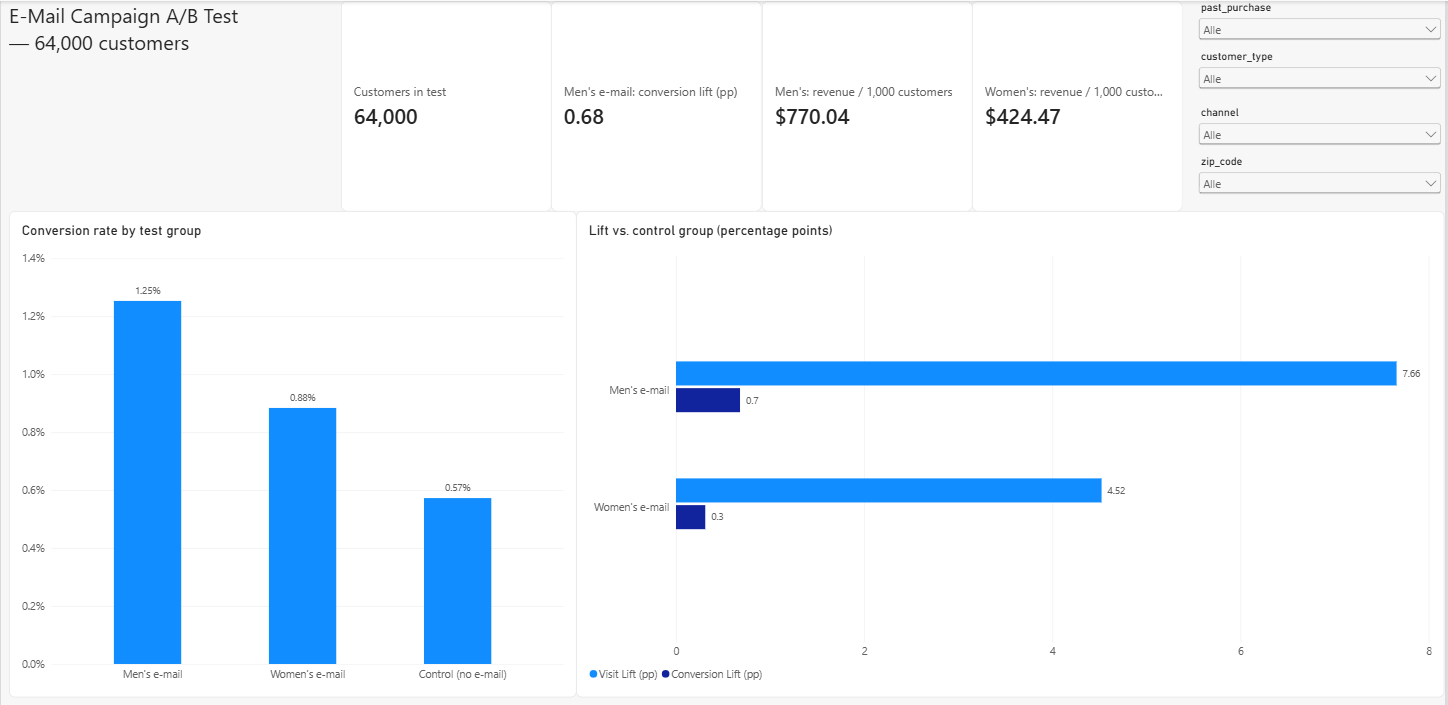

What the dashboard file says about the page in this screenshot:
{"tool":"powerbi","page":{"name":"Overview","canvas":[1920,1080],"ordinal":0},"visuals":[{"type":"textbox","box":[10.4,0,335,279.7],"z":0},{"type":"cardVisual","fields":{"Data":["customers.KPI Men Conversion Lift (pp)"]},"box":[732.1,0,280,280],"z":1000},{"type":"cardVisual","fields":{"Data":["customers.KPI Men Revenue per 1,000"]},"box":[1011.8,0,280.1,280.1],"z":2000},{"type":"cardVisual","fields":{"Data":["customers.KPI Women Revenue per 1,000"]},"box":[1291.5,0,280,280],"z":3000},{"type":"cardVisual","fields":{"Data":["customers.Customers Label"]},"box":[452.4,0,280,280],"z":4000},{"type":"clusteredColumnChart","title":"Conversion rate by test group","fields":{"Category":["customers.test_group"],"Y":["customers.Conversion Rate"]},"box":[10.4,279.7,754.5,647.5],"z":5000},{"type":"clusteredBarChart","title":"Lift vs. control group (percentage points)","fields":{"Category":["customers.test_group"],"Y":["customers.Visit Lift (pp)","customers.Conversion Lift (pp)"]},"box":[764.9,279.7,1155.1,647.5],"z":6000},{"type":"slicer","fields":{"Values":["customers.past_purchase"]},"box":[1588.5,0,331.5,279.7],"z":7000},{"type":"slicer","fields":{"Values":["customers.customer_type"]},"box":[1588.5,65.6,331.5,279.7],"z":8000},{"type":"slicer","fields":{"Values":["customers.channel"]},"box":[1588.5,139.9,331.5,279.7],"z":9000},{"type":"slicer","fields":{"Values":["customers.zip_code"]},"box":[1588.5,205.5,331.5,279.7],"z":10000}]}

Visuals, with their boxes on the page's 1920x1080 design canvas (x1, y1, x2, y2). These are canvas units, not pixel positions in the 1448x705 screenshot, which may show the page scaled, cropped or inside an application window:
textbox: BBox(10, 0, 345, 280)
cardVisual - customers.KPI Men Conversion Lift (pp): BBox(732, 0, 1012, 280)
cardVisual - customers.KPI Men Revenue per 1,000: BBox(1012, 0, 1292, 280)
cardVisual - customers.KPI Women Revenue per 1,000: BBox(1292, 0, 1572, 280)
cardVisual - customers.Customers Label: BBox(452, 0, 732, 280)
"Conversion rate by test group" clusteredColumnChart: BBox(10, 280, 765, 927)
"Lift vs. control group (percentage points)" clusteredBarChart: BBox(765, 280, 1920, 927)
slicer - customers.past_purchase: BBox(1588, 0, 1920, 280)
slicer - customers.customer_type: BBox(1588, 66, 1920, 345)
slicer - customers.channel: BBox(1588, 140, 1920, 420)
slicer - customers.zip_code: BBox(1588, 206, 1920, 485)
